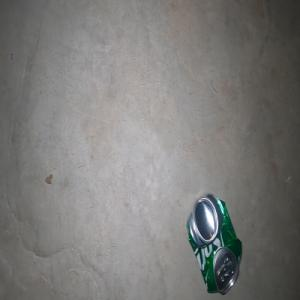SodaCan: (186, 192, 242, 295)
